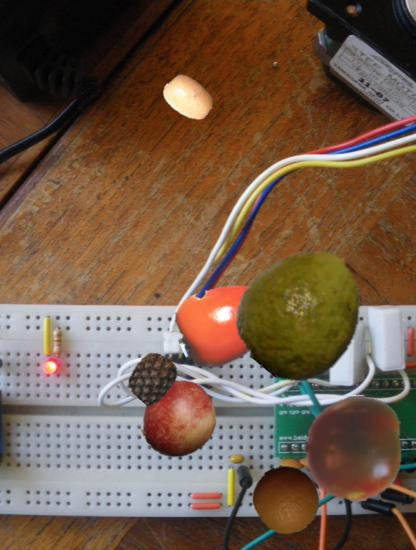Guava: (235, 244, 372, 381)
Kaki: (175, 273, 276, 374)
Kumquats: (163, 72, 214, 123)
Nectarine: (140, 381, 218, 459)
Orange: (253, 466, 321, 534)
Pineapple: (128, 353, 179, 404)
Tomato: (301, 395, 407, 501)
